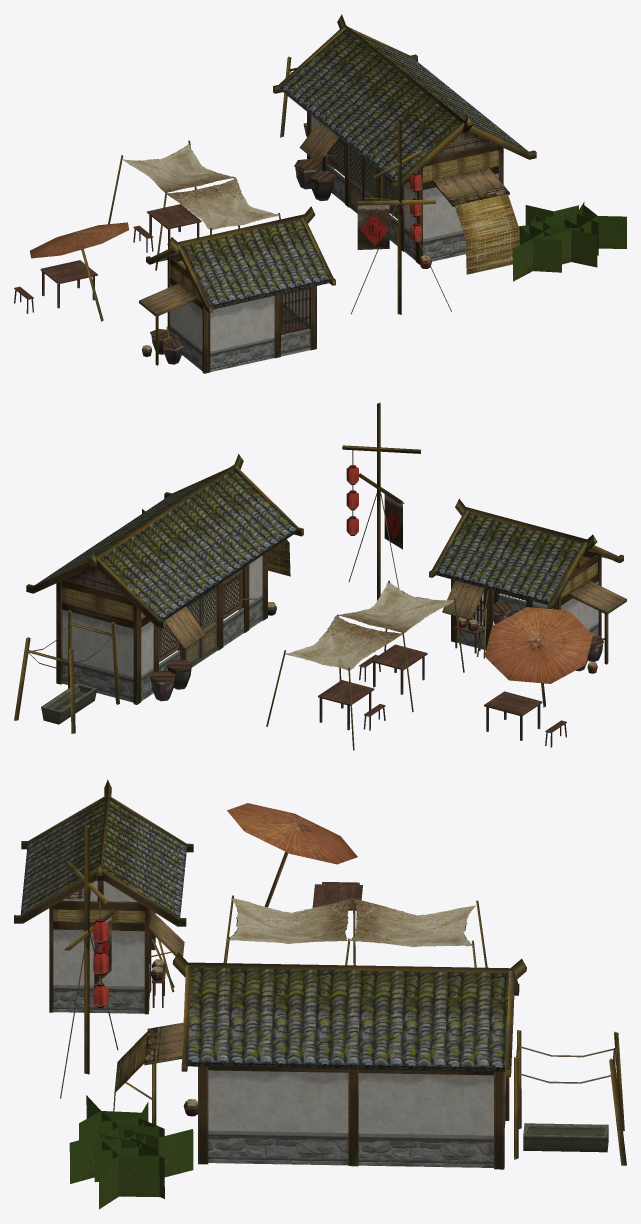
File: outdoorWineShop.obj
3 views of the same model, one above another, from view 1: azimuth 30°, elevation 25°; view 2: azimuth 150°, elevation 25°; view 3: azimuth 270°, elevation 25° (orthographic). The views are drawn at different scales.
Parts seen in each view (by area): view 1: 1d4e7970.obj, 1d5fb488.obj, 1d59a130.obj, 1d6f1010.obj, 1d7d26b0.obj, 1d52e2c0.obj, 1d4a6d90.obj, 1d5e4288.obj, 1d794898.obj, 1d500948.obj, 1d7a3bc8.obj, 1d5b9a00.obj (+2 smaller); view 2: 1d4e7970.obj, 1d5fb488.obj, 1d59a130.obj, 1d7a3bc8.obj, 1d52e2c0.obj, 1d794898.obj, 1d5e4288.obj, 1d4a6d90.obj, 1d500948.obj, 1d7d26b0.obj, 1d7d5fb0.obj, 1d5b9a00.obj (+1 smaller); view 3: 1d4e7970.obj, 1d59a130.obj, 1d5fb488.obj, 1d6f1010.obj, 1d52e2c0.obj, 1d7a3bc8.obj, 1d5e4288.obj, 1d7d5fb0.obj, 1d4a6d90.obj, 1d7d26b0.obj, 1d794898.obj.
Boxes of the visible parts, <box> form: 1d4e7970.obj: <box>182,29,527,308</box>; 1d5fb488.obj: <box>81,14,536,373</box>; 1d59a130.obj: <box>170,116,498,371</box>; 1d6f1010.obj: <box>513,202,626,281</box>; 1d7d26b0.obj: <box>171,150,519,300</box>; 1d52e2c0.obj: <box>122,144,280,230</box>; 1d4a6d90.obj: <box>139,121,509,316</box>; 1d5e4288.obj: <box>142,71,451,364</box>; 1d794898.obj: <box>14,204,201,313</box>; 1d500948.obj: <box>328,138,397,218</box>; 1d7a3bc8.obj: <box>30,222,129,258</box>; 1d5b9a00.obj: <box>357,205,389,249</box>; 1d4e7970.obj: <box>36,469,582,620</box>; 1d5fb488.obj: <box>14,402,623,750</box>; 1d59a130.obj: <box>62,555,598,702</box>; 1d7a3bc8.obj: <box>484,607,592,683</box>; 1d52e2c0.obj: <box>285,582,453,670</box>; 1d794898.obj: <box>318,625,566,747</box>; 1d5e4288.obj: <box>28,450,603,701</box>; 1d4a6d90.obj: <box>165,580,626,649</box>; 1d500948.obj: <box>159,569,242,667</box>; 1d7d26b0.obj: <box>62,539,597,620</box>; 1d7d5fb0.obj: <box>41,683,97,724</box>; 1d5b9a00.obj: <box>384,494,402,549</box>; 1d4e7970.obj: <box>20,799,509,1071</box>; 1d59a130.obj: <box>53,881,505,1167</box>; 1d5fb488.obj: <box>14,779,626,1169</box>; 1d6f1010.obj: <box>69,1095,193,1209</box>; 1d52e2c0.obj: <box>226,898,475,947</box>; 1d7a3bc8.obj: <box>227,803,357,864</box>; 1d5e4288.obj: <box>60,889,613,1116</box>; 1d7d5fb0.obj: <box>523,1123,608,1152</box>; 1d4a6d90.obj: <box>144,910,184,1065</box>; 1d7d26b0.obj: <box>53,909,147,1111</box>; 1d794898.obj: <box>152,882,362,1007</box>.
Size of the model in its own units: 19.56 by 7.09 by 15.86.
17 materials, 17 textured.
